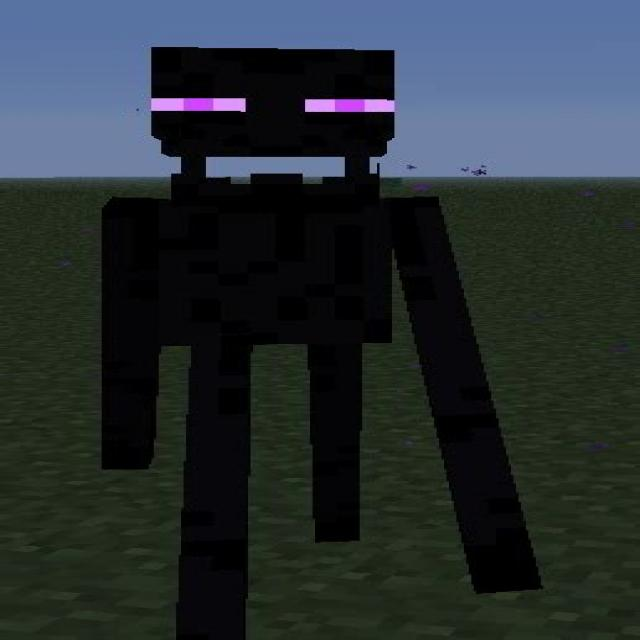Enderman: (87, 46, 548, 640)
